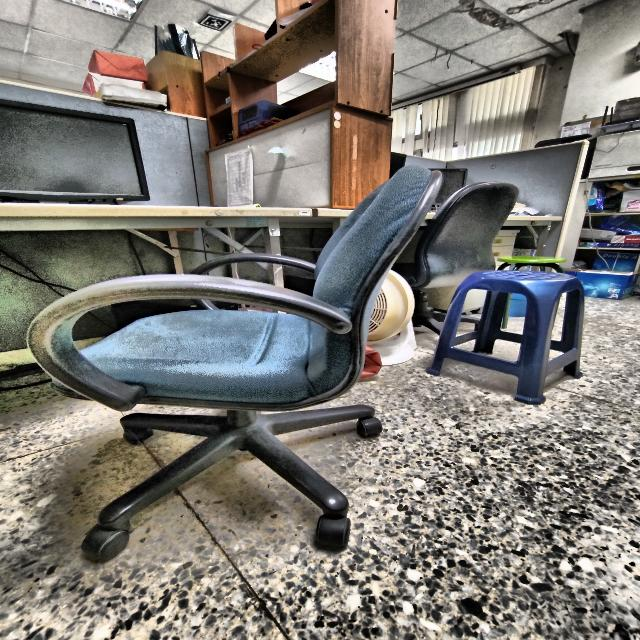cadeira: (24, 145, 448, 565), (423, 257, 595, 408)
